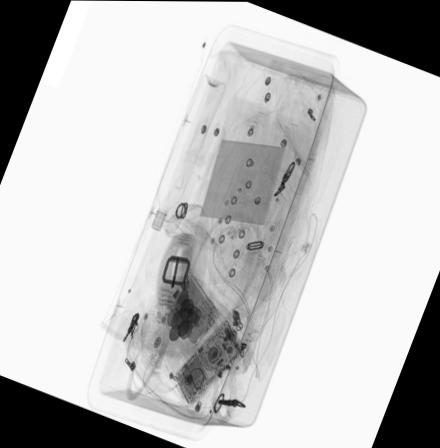Lighter: (179, 243, 192, 295)
